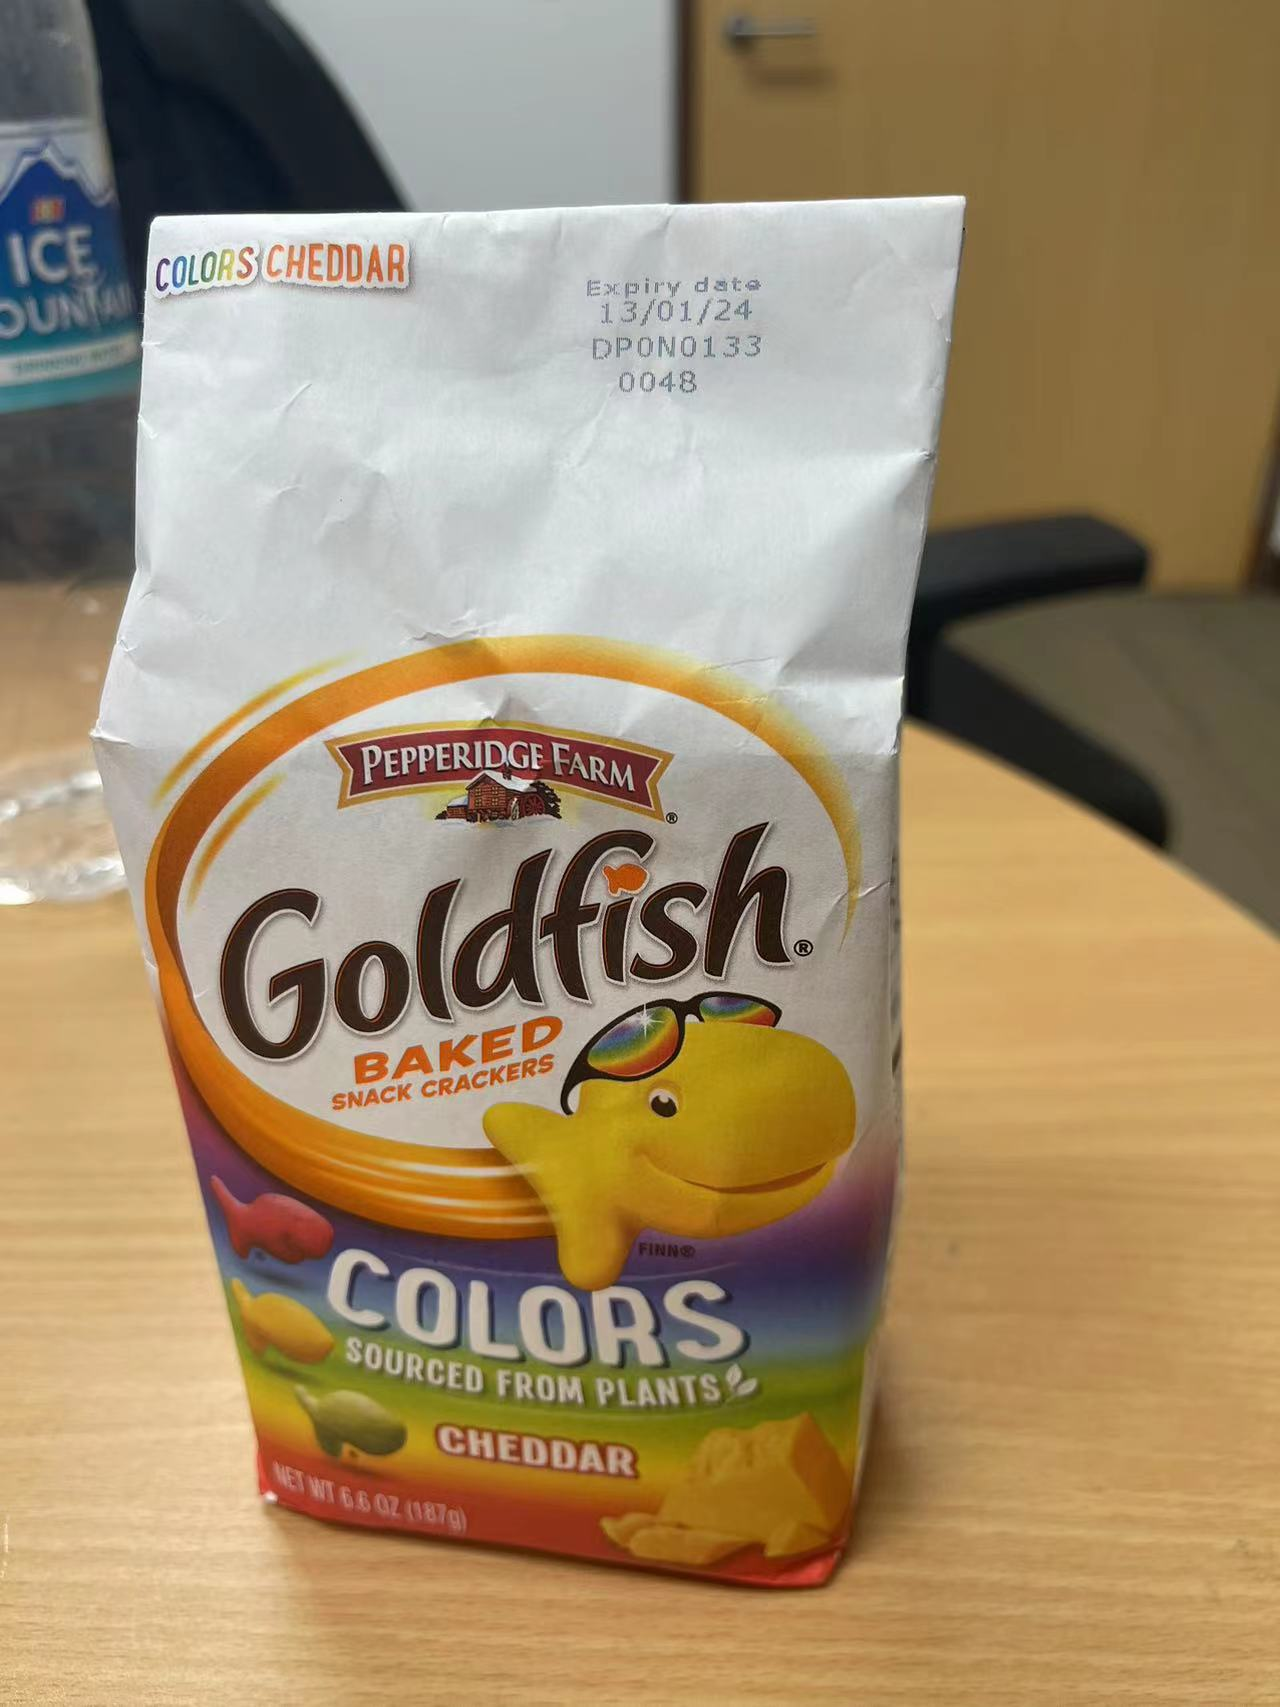Crackers_100-199g_NonHalal_NonHealthy: (145, 228, 905, 1589)
